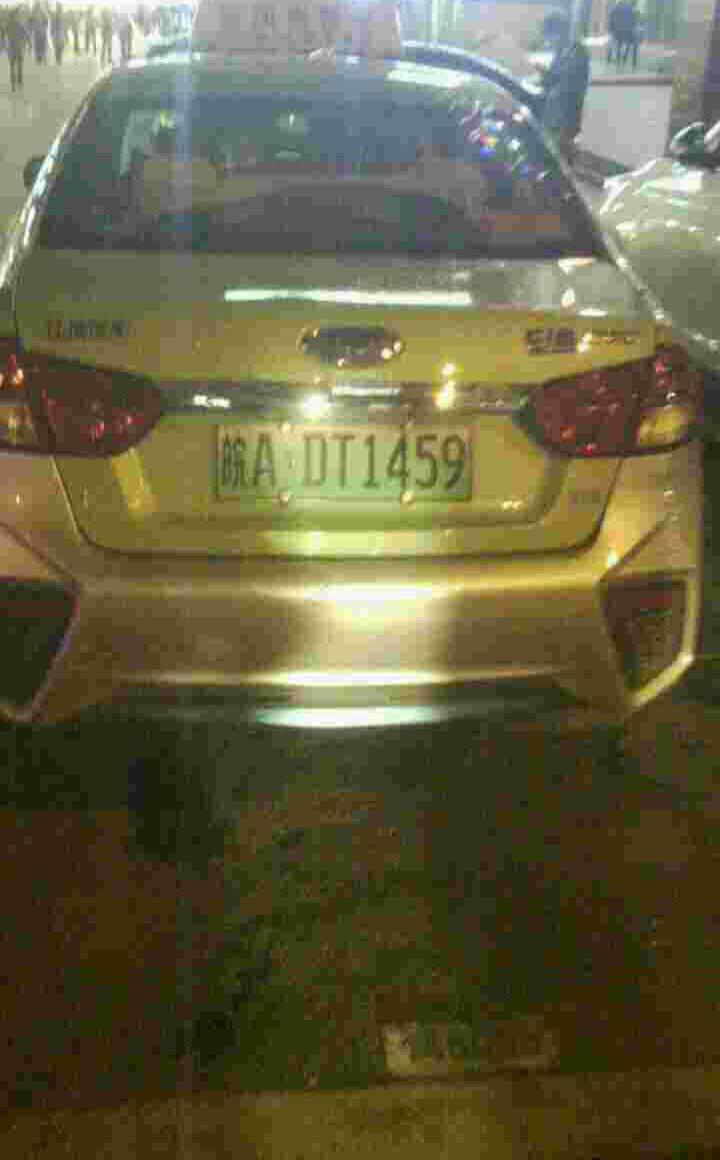car_green: (211, 418, 482, 507)
